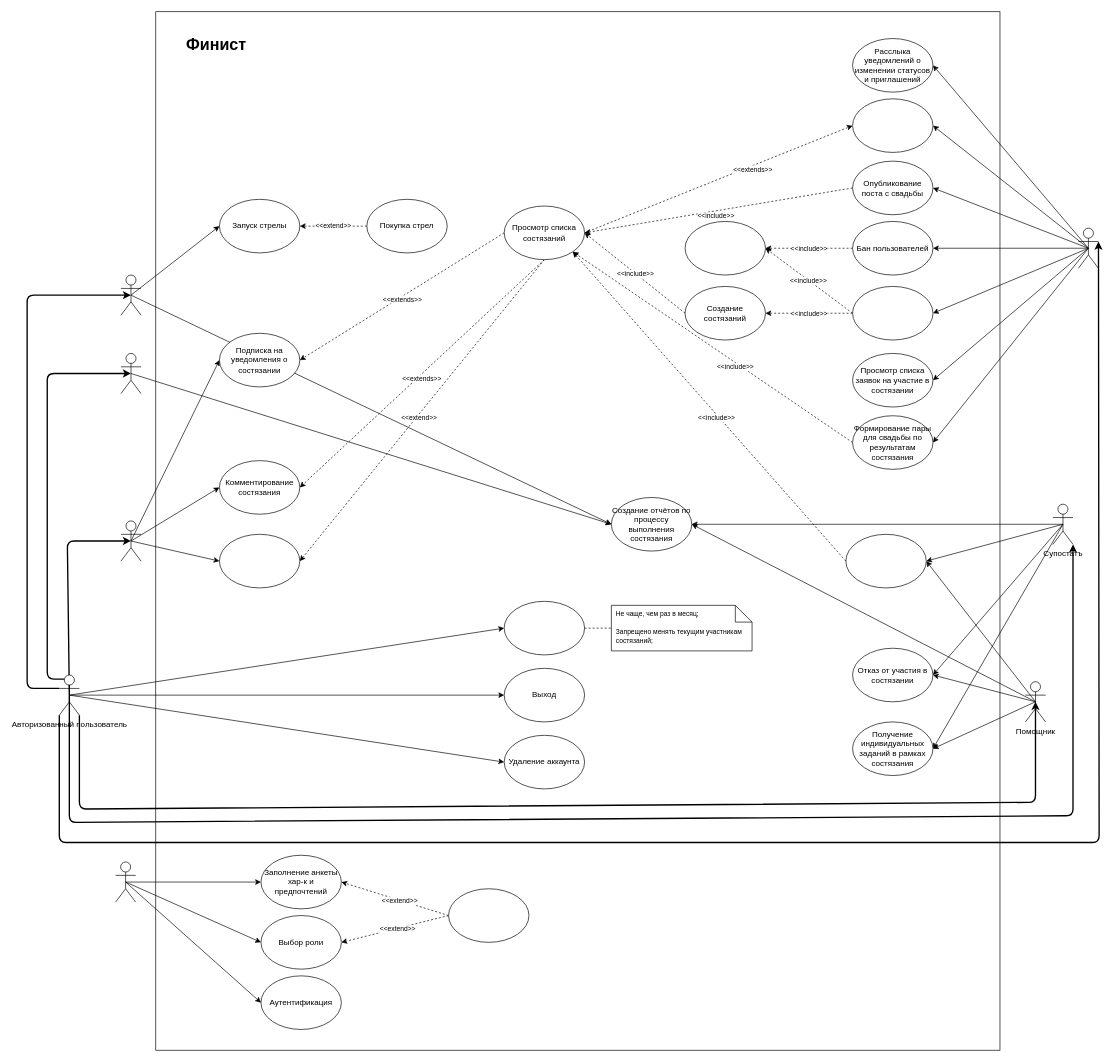
This 1116x1062 diagram has some shape labels left out. The shapes that lost their labels are listed below. From the top down, each one's centre as x and y in pixels, then its label:
(x=892, y=125): Выбор лучшей кандидатки
(x=724, y=248): Просмотр анкет пользователей
(x=1088, y=247): Сваха
(x=130, y=294): Жених
(x=892, y=313): Назначение участников состязаний
(x=130, y=373): Невеста
(x=130, y=540): Гость
(x=259, y=561): Голосование за лучшую Невесту состязания
(x=885, y=561): Оформление заявки на учвстие в состязании в соответствии с ролью
(x=544, y=628): Смена роли
(x=125, y=881): Неизвестный пользователь
(x=488, y=915): Регистрация
